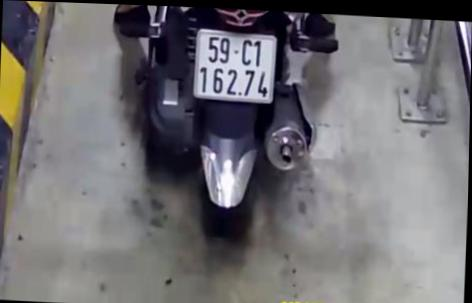LP: (192, 25, 277, 105)
